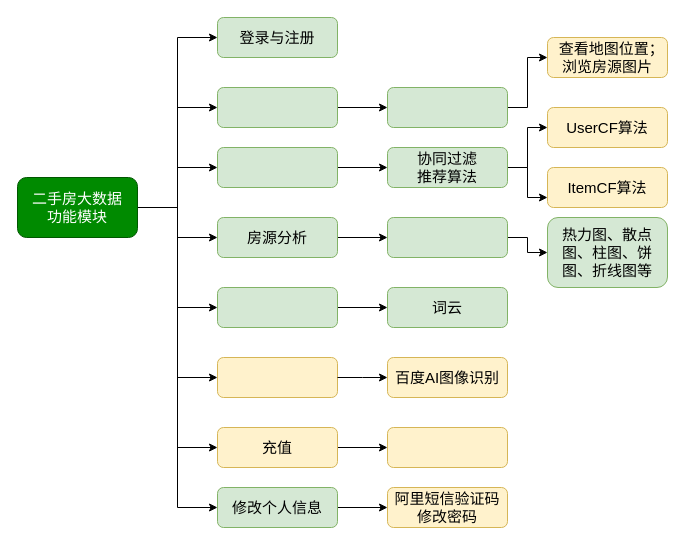
This 685x545 diagram has some shape labels left out. Here are the shapes that lost their labels. From the top down, the box of each, then its label:
(216, 86, 338, 128): 首页
(386, 86, 508, 128): 房源卡片
(216, 146, 338, 188): 房源库
(386, 216, 508, 258): Echarts分析大屏
(216, 286, 338, 328): 房源介绍词云
(216, 356, 338, 398): 身份证识别
(386, 426, 508, 468): 支付宝沙箱支付
